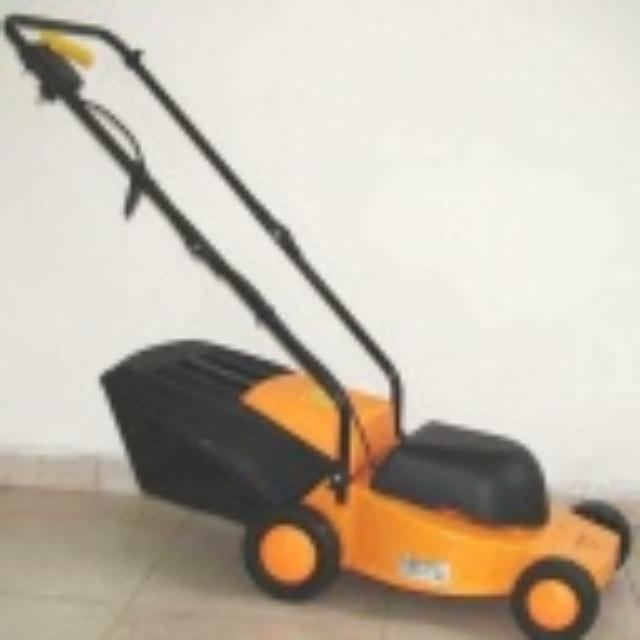Rotary-Mower: (0, 10, 630, 634)
